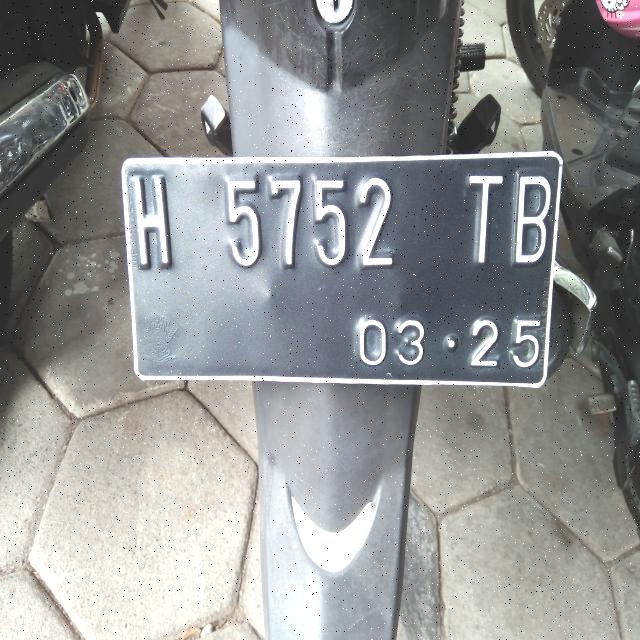plate: (123, 153, 561, 385)
